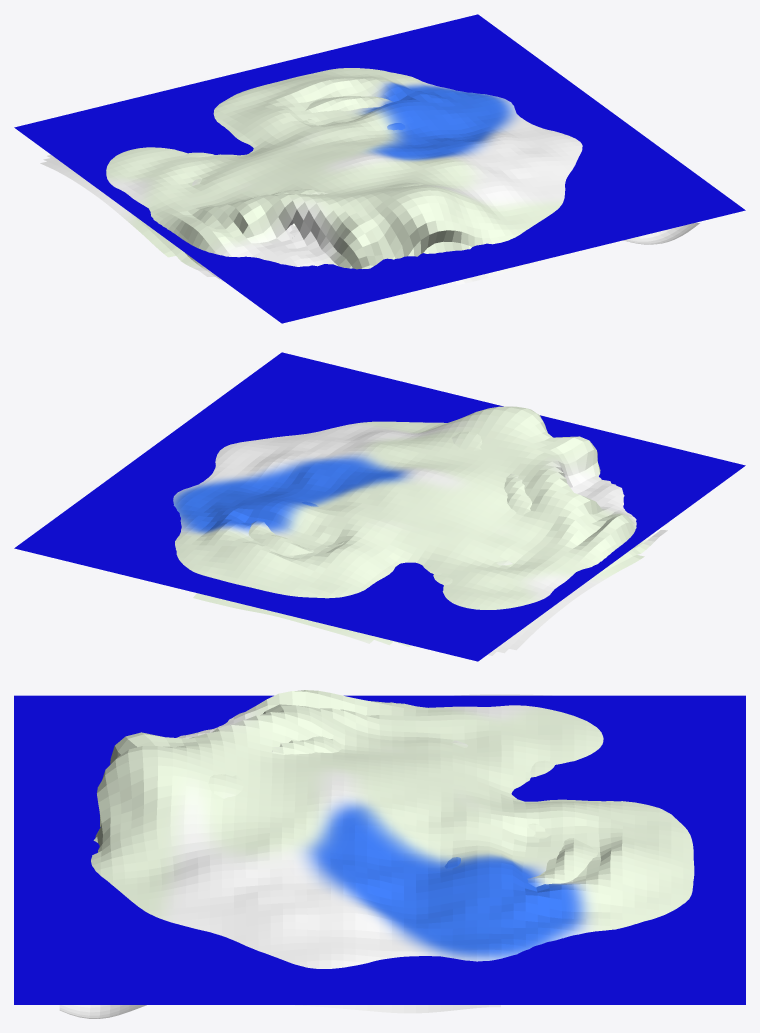
Rendered from testisland.glb.
The picture shows the model from 3 angles, top to bottom: view 1: azimuth 30°, elevation 25°; view 2: azimuth 150°, elevation 25°; view 3: azimuth 270°, elevation 25°; orthographic projection. The views are drawn at different scales.
Parts seen in each view (by area): view 1: islandTrim, waterPlane, islandPlane; view 2: islandTrim, waterPlane, islandPlane; view 3: islandTrim, waterPlane, islandPlane.
Boxes of the visible parts, left/top/right/bottom form: islandTrim: left=40, top=68, right=639, bottom=284; waterPlane: left=14, top=14, right=745, bottom=323; islandPlane: left=194, top=96, right=699, bottom=244; islandTrim: left=173, top=406, right=669, bottom=655; waterPlane: left=14, top=352, right=745, bottom=661; islandPlane: left=248, top=431, right=531, bottom=565; islandTrim: left=91, top=690, right=694, bottom=1013; waterPlane: left=14, top=695, right=745, bottom=1004; islandPlane: left=59, top=736, right=591, bottom=1018.
Size of the model in its own units: 406 by 96.75 by 400.
Materials: 2 (1 with a texture image).
